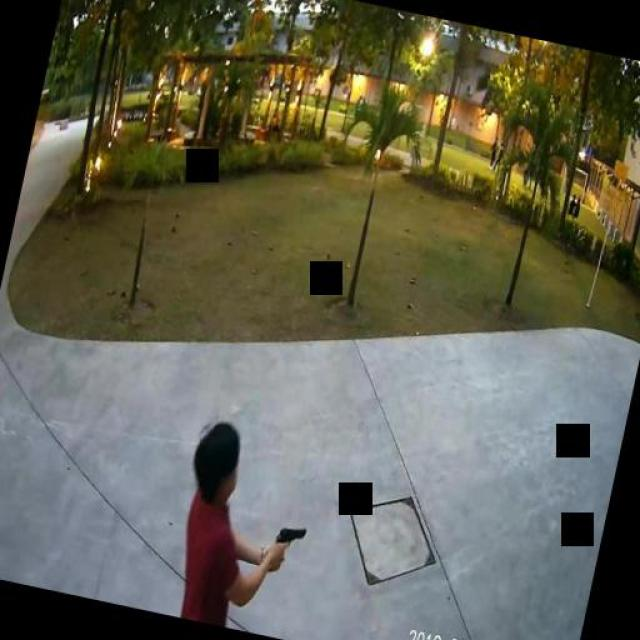gun: (268, 520, 306, 574)
